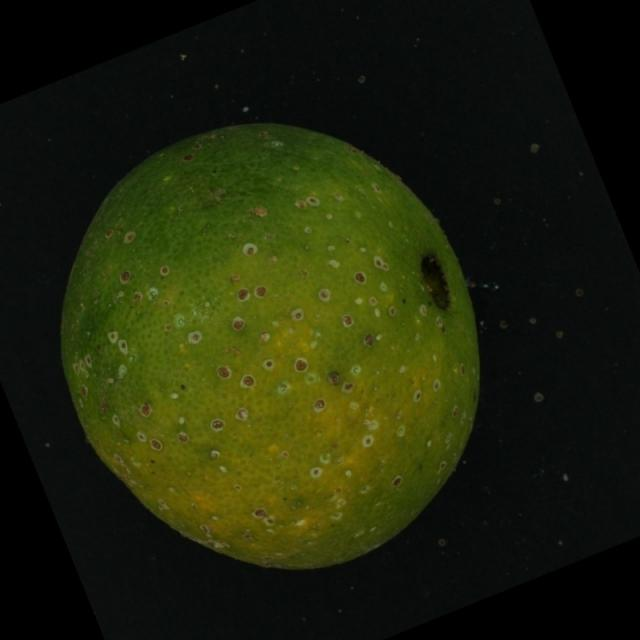grenning: (24, 100, 508, 601)
